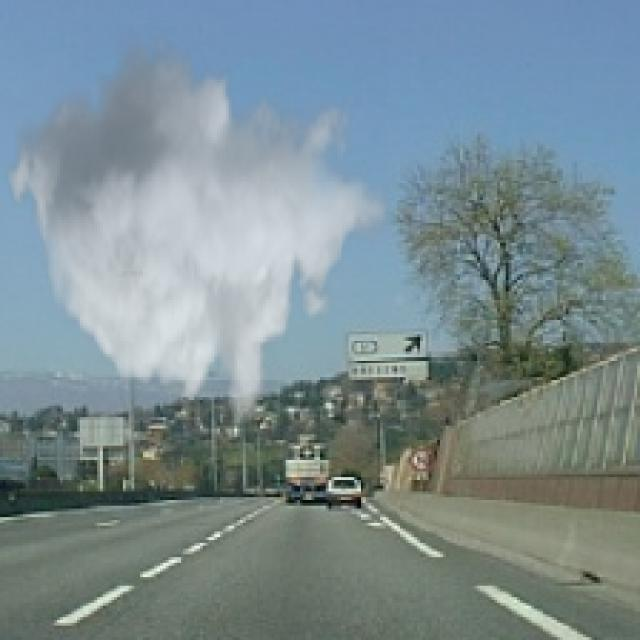smoke: (3, 26, 388, 428)
